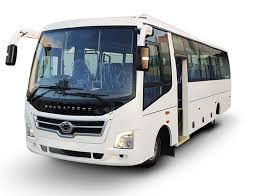bus: (5, 12, 231, 168)
